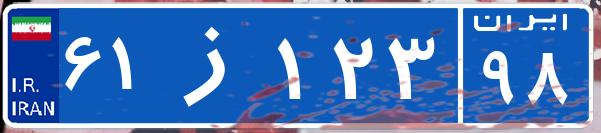1: (273, 28, 330, 110), (110, 28, 158, 105)
2: (330, 28, 385, 110)
3: (385, 28, 445, 110)
6: (57, 26, 110, 107)
8: (525, 38, 570, 115)
9: (475, 38, 525, 113)
ز: (158, 15, 273, 115)
